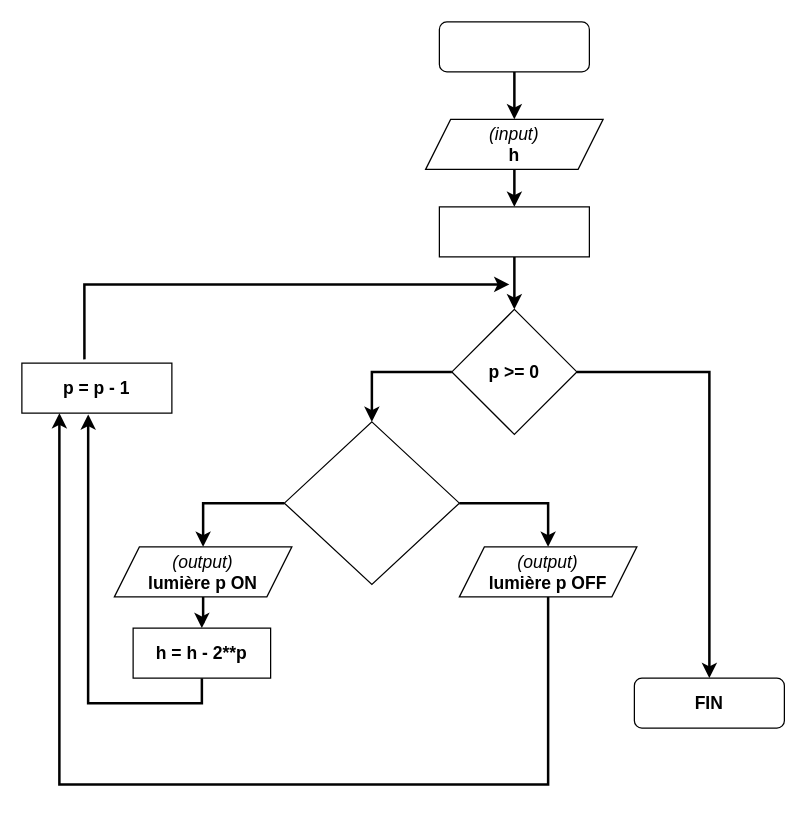
Some shapes in this 806 by 818 pixel diagram are drawn without their labels. Here are the shapes that lost their labels. From the top down, the box of each, then its label:
(438, 21, 589, 72): DEBUT
(438, 206, 589, 257): p = 4
(283, 421, 459, 584): h - 2**p >= 0
